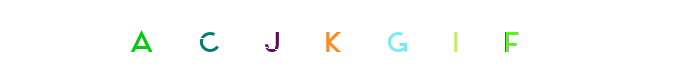A: (167, 0, 247, 80)
C: (241, 0, 321, 80)
F: (328, 0, 408, 80)
G: (308, 0, 388, 80)
I: (320, 0, 400, 80)
J: (278, 0, 358, 80)
K: (291, 0, 371, 80)
